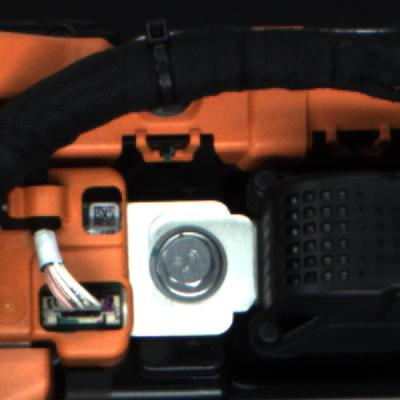nut_b: (144, 222, 249, 304)
